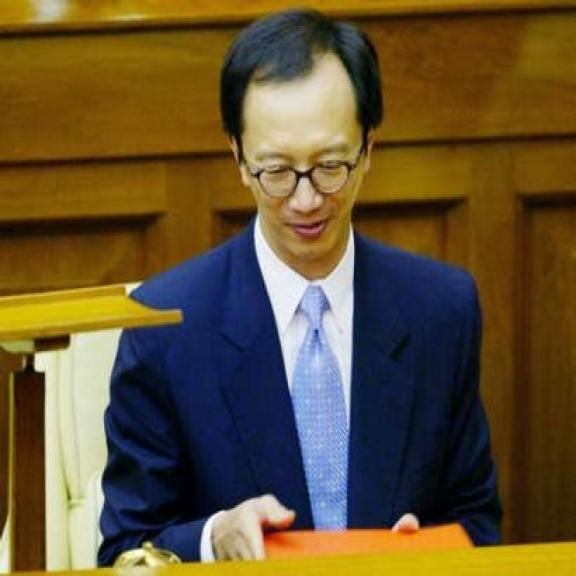face: (222, 82, 380, 264)
